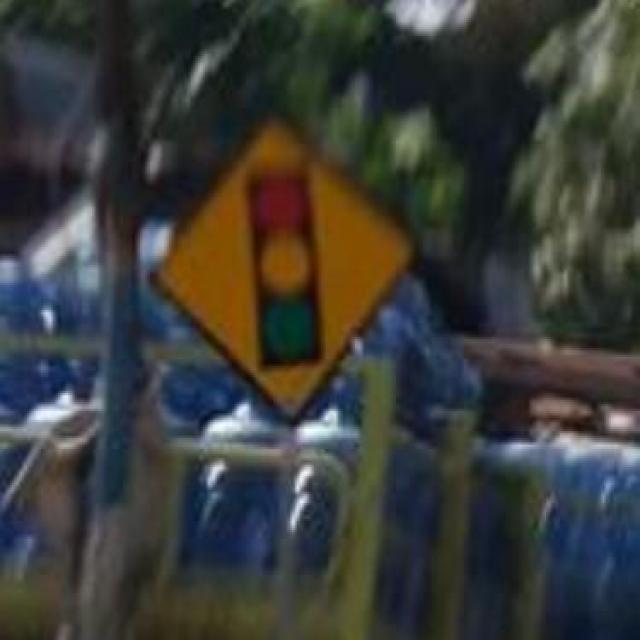traffic sign: (159, 130, 405, 402)
